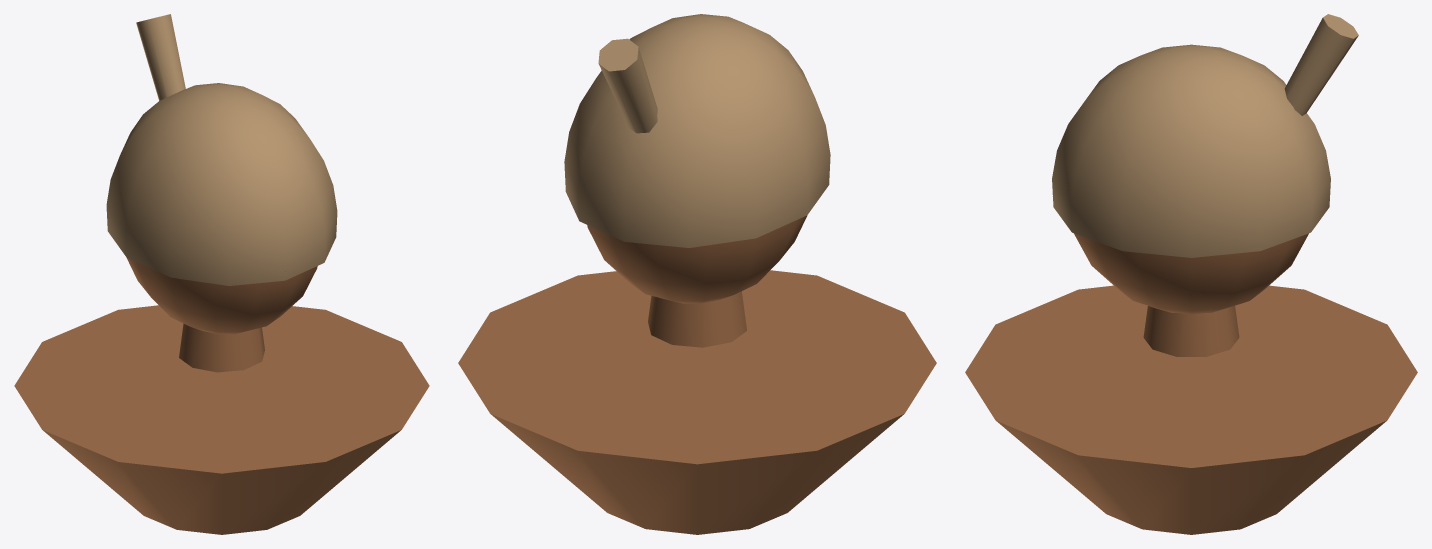
Rendered from raw_002.glb.
3 renders of one model, left to right at view 1: azimuth 30°, elevation 25°; view 2: azimuth 150°, elevation 25°; view 3: azimuth 270°, elevation 25°, orthographic. The views are drawn at different scales.
Size of the model in its own units: 1.98 by 2.3 by 1.98.
